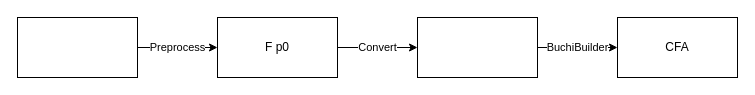
This 755x95 diagram has some shape labels left out. Here are the shapes that lost their labels. From the top down, the centre of each, then its label:
At point 77,47: "F x == 9".
At point 477,47: "HOA v1...".
